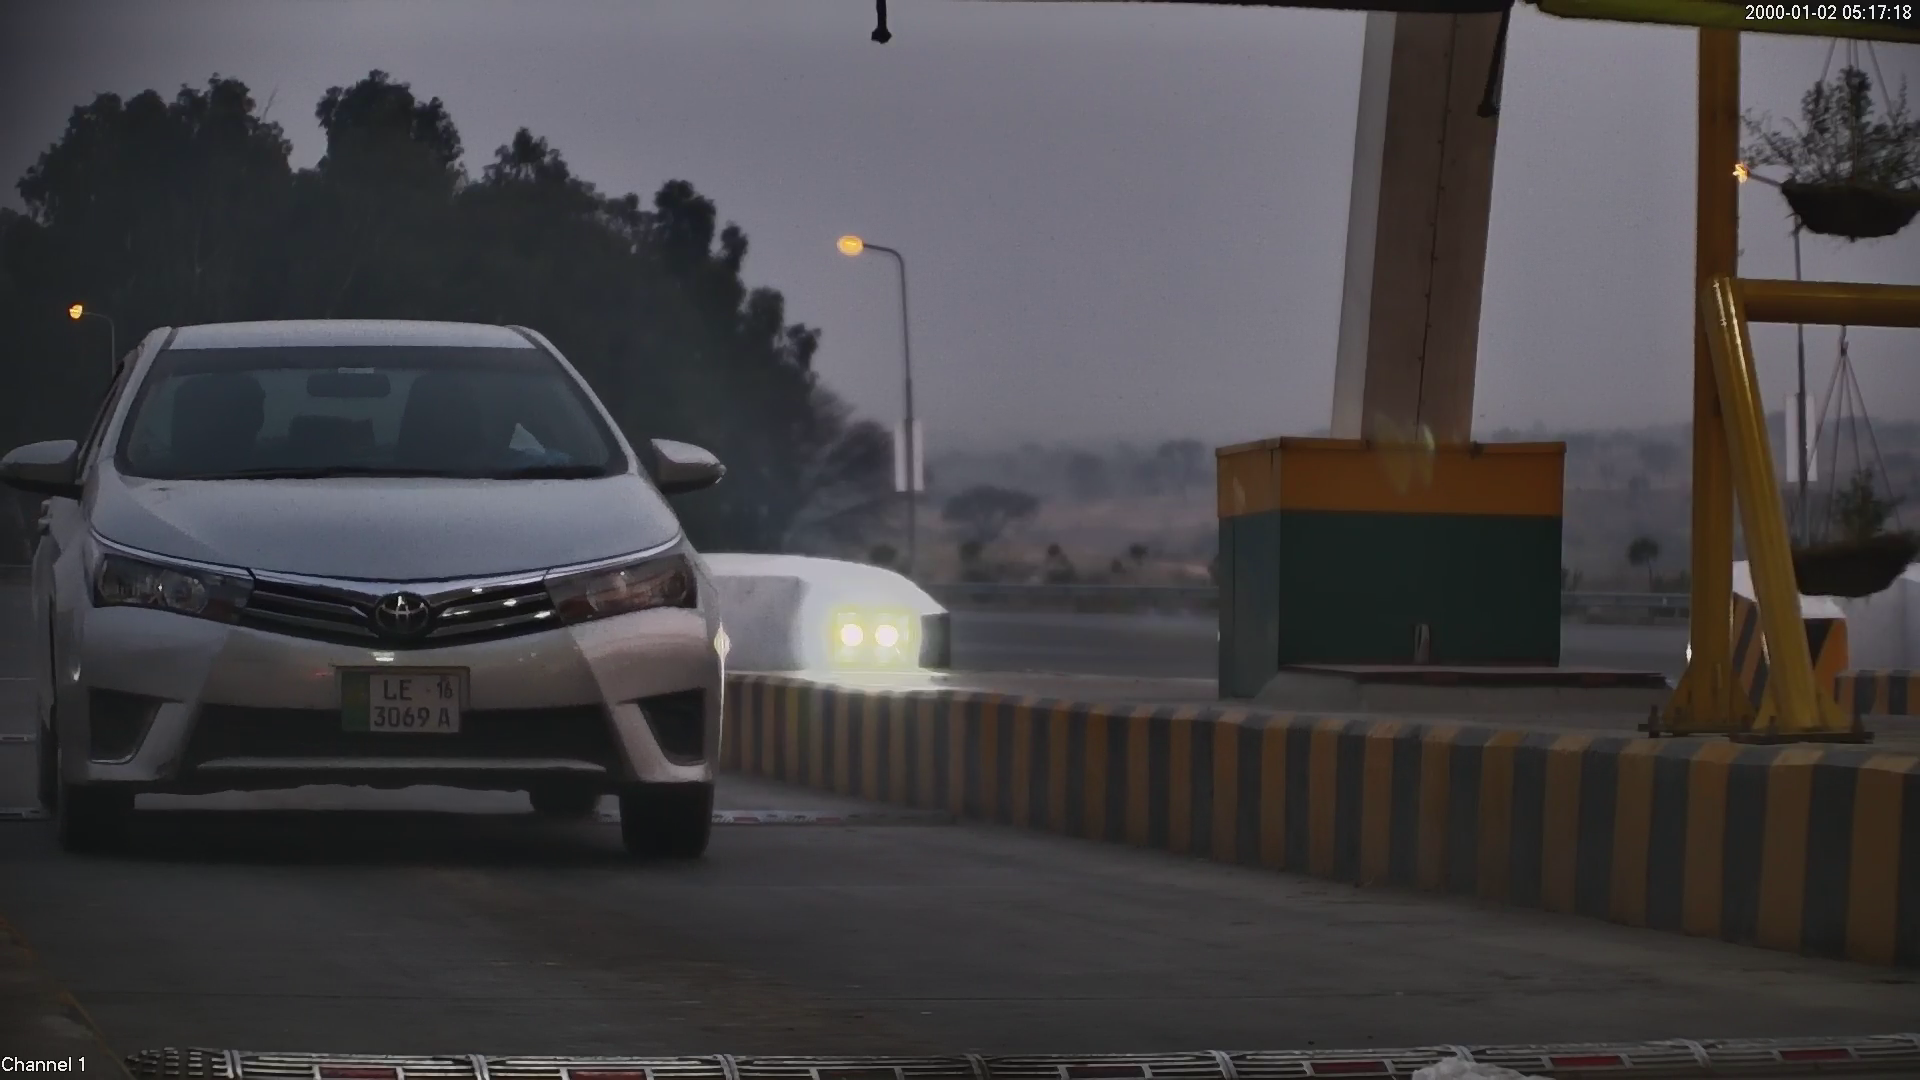Number_Plate: (329, 658, 477, 749)
